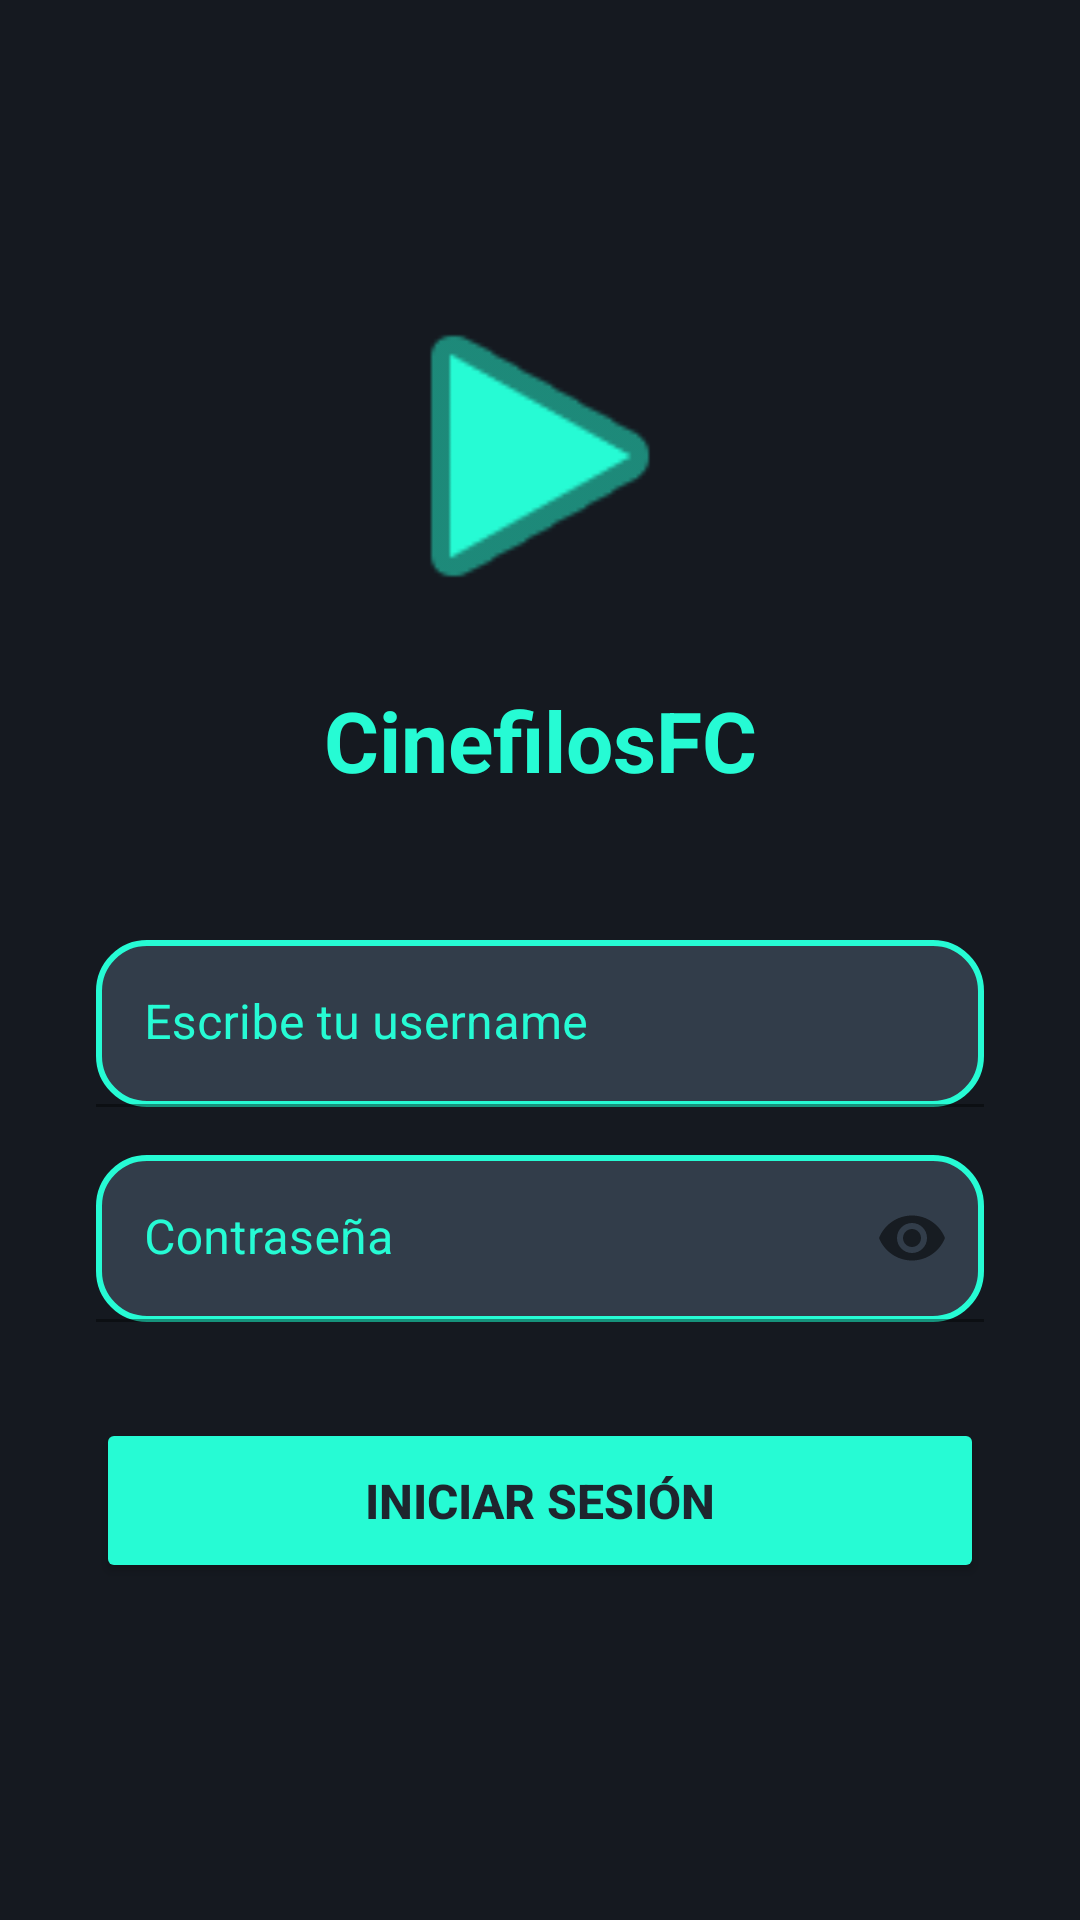

Point at icon controls on the screen. Image size 1080w x 1920h, points as [x,y].
play: [540,456]
